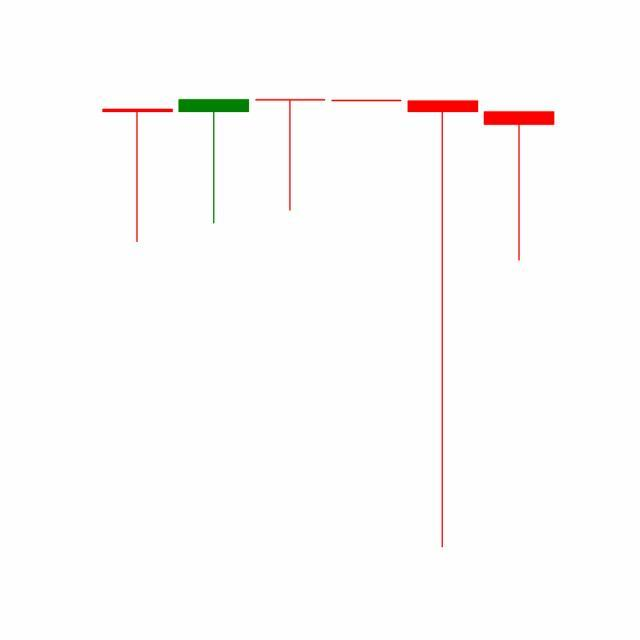Hanging Man: (404, 97, 482, 554)
